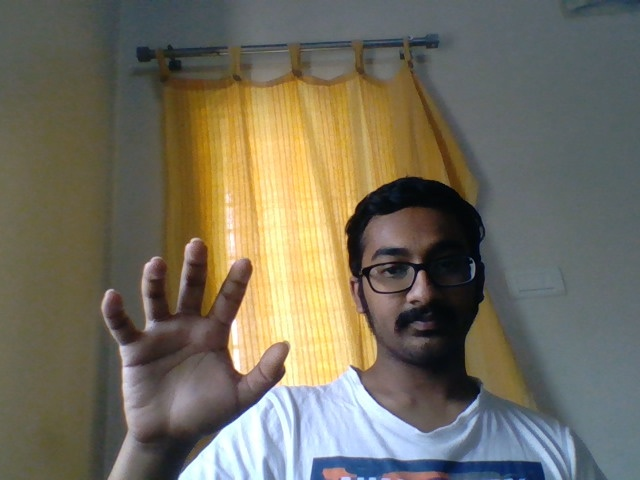no: (66, 214, 296, 442)
